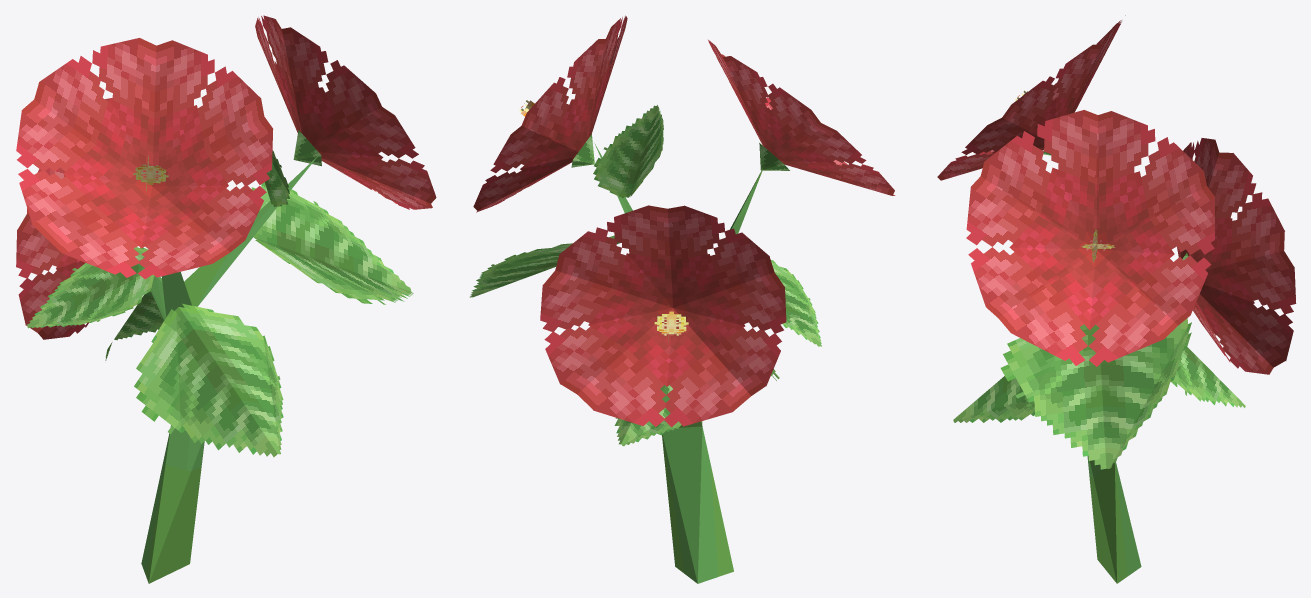
The model's file is flowerred.dae.
3 views of the same model, side by side, from view 1: azimuth 30°, elevation 25°; view 2: azimuth 150°, elevation 25°; view 3: azimuth 270°, elevation 25° (orthographic). The views are drawn at different scales.
Visible parts, largest first — view 1: m0; view 2: m0; view 3: m0.
Boxes of the visible parts, x1=… form: m0: x1=16, y1=15, x2=436, y2=583; m0: x1=470, y1=15, x2=895, y2=583; m0: x1=937, y1=15, x2=1296, y2=583.
Bounding box in the file's own units: 66.23 × 83.09 × 52.04.
